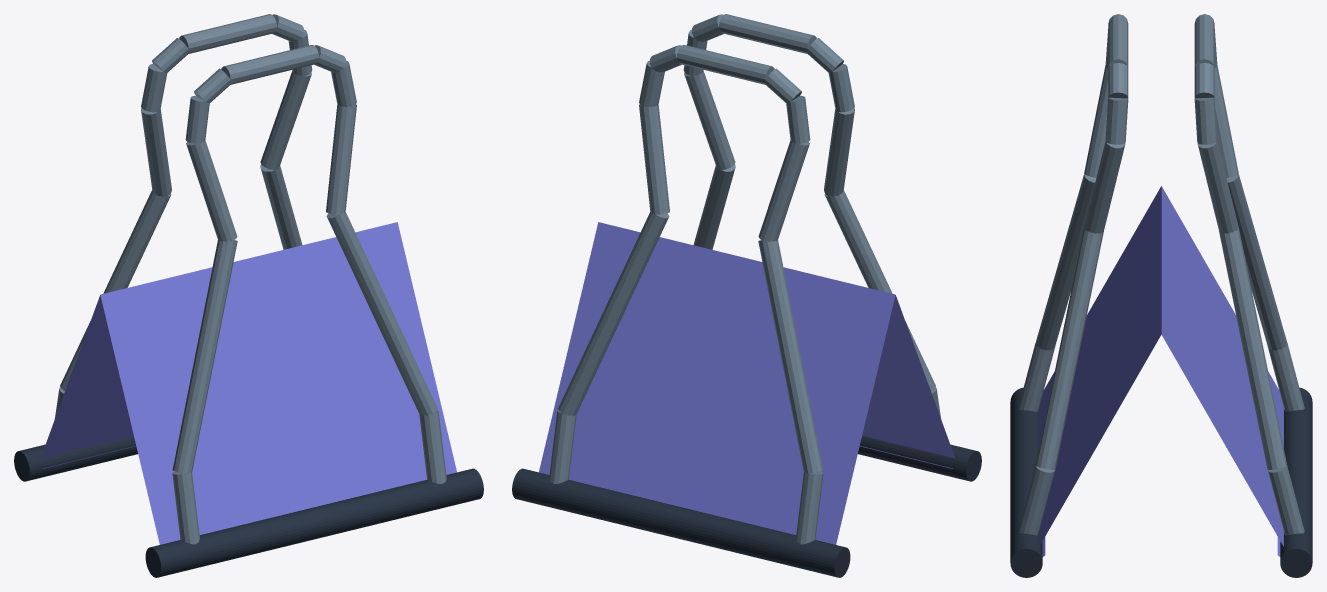
File: binder.glb
3 views of the same model, side by side, from view 1: azimuth 30°, elevation 25°; view 2: azimuth 150°, elevation 25°; view 3: azimuth 270°, elevation 25° (orthographic). The views are drawn at different scales.
Visible parts, largest first — view 1: fold 0, front lip, fold 1, wire 11, wire 19, rear lip, wire -11, wire 18, wire 12, wire -18, wire -15, wire 15 (+9 smaller); view 2: fold 1, rear lip, fold 0, wire -11, wire -19, front lip, wire 11, wire -18, wire -12, wire 18, wire 15, wire -15 (+9 smaller); view 3: fold 0, fold 1, wire -19, wire 19, rear lip, front lip, wire -11, wire 11, wire -18, wire 18, wire -110, wire 110 (+10 smaller).
Boxes of the visible parts, <box> form: fold 0: <box>100,222,456,544</box>; front lip: <box>145,468,483,577</box>; fold 1: <box>41,295,133,458</box>; wire 11: <box>172,240,237,473</box>; wire 19: <box>326,211,437,416</box>; rear lip: <box>14,436,137,481</box>; wire -11: <box>60,190,171,391</box>; wire 18: <box>326,104,356,214</box>; wire 12: <box>186,140,237,241</box>; wire -18: <box>260,70,311,169</box>; wire -15: <box>179,14,276,53</box>; wire 15: <box>221,45,319,84</box>; fold 1: <box>539,222,895,544</box>; rear lip: <box>512,468,850,577</box>; fold 0: <box>862,295,954,458</box>; wire -11: <box>758,240,823,473</box>; wire -19: <box>558,211,669,416</box>; front lip: <box>858,436,981,481</box>; wire 11: <box>824,190,935,391</box>; wire -18: <box>639,104,669,214</box>; wire -12: <box>758,140,809,241</box>; wire 18: <box>684,70,735,169</box>; wire 15: <box>719,14,816,53</box>; wire -15: <box>676,45,774,84</box>; fold 0: <box>1039,186,1161,546</box>; fold 1: <box>1161,186,1283,546</box>; wire -19: <box>1219,228,1287,469</box>; wire 19: <box>1035,228,1103,469</box>; rear lip: <box>1280,387,1312,577</box>; front lip: <box>1010,387,1042,577</box>; wire -11: <box>1226,174,1287,350</box>; wire 11: <box>1035,174,1096,350</box>; wire -18: <box>1197,141,1238,233</box>; wire 18: <box>1084,141,1125,233</box>; wire -110: <box>1267,466,1304,535</box>; wire 110: <box>1018,466,1055,535</box>.
Bounding box in the file's own units: 1.02 × 1.36 × 0.806.
